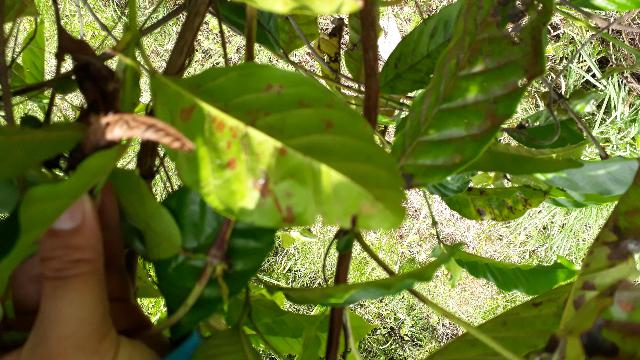red_spider_mite: (151, 60, 411, 236)
